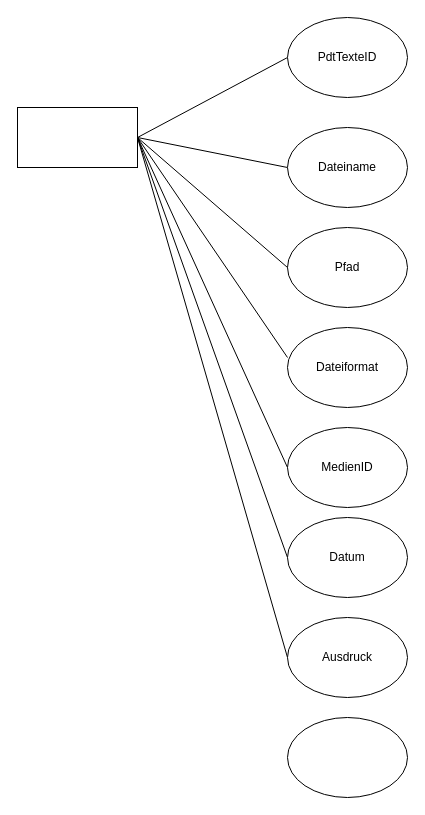
This 425x815 diagram has some shape labels left out. Each missing label, with the centre of its shape:
"PdfTexte" goes at (x=77, y=137).
"Text" goes at (x=347, y=757).
